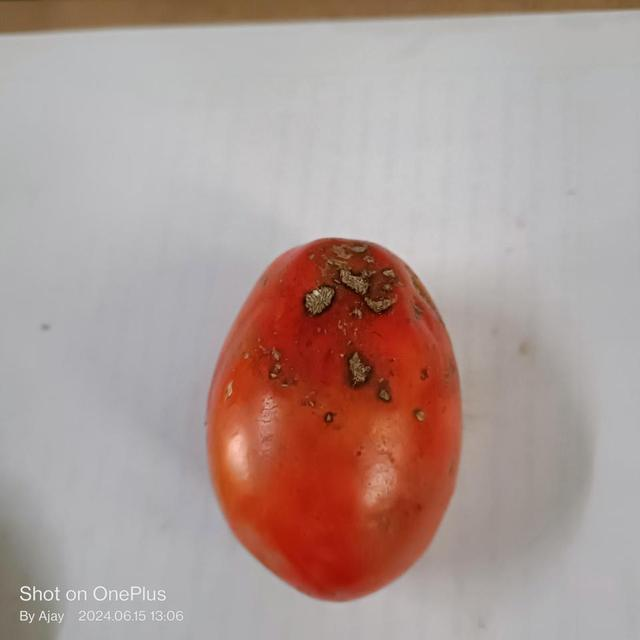Bacterial Spot Fruit: (190, 161, 264, 275)
